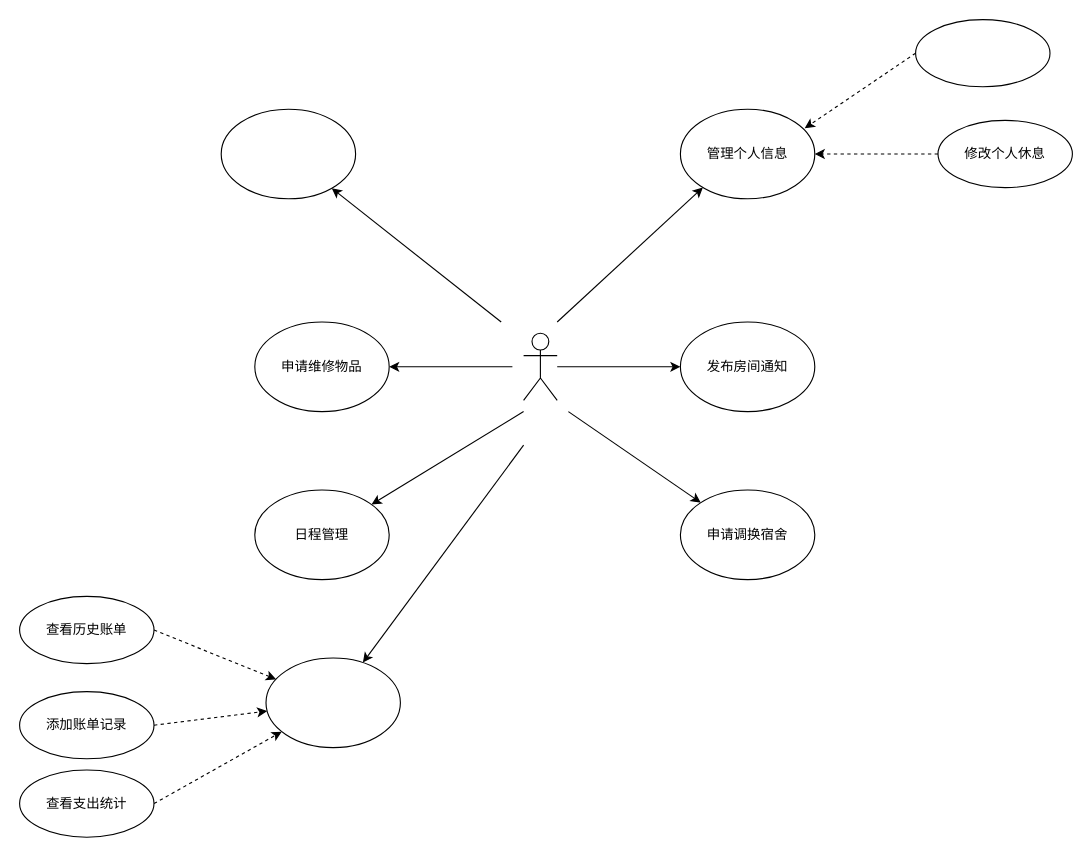
Image size: 1092x857. Some labels were removed from this diagram. Here are the shapes that lost their labels. From the top down, the centre of each, then its label:
[982,52]: 查看个人信息
[288,153]: 查看楼栋通知
[539,366]: 学生
[332,702]: 账单管理
